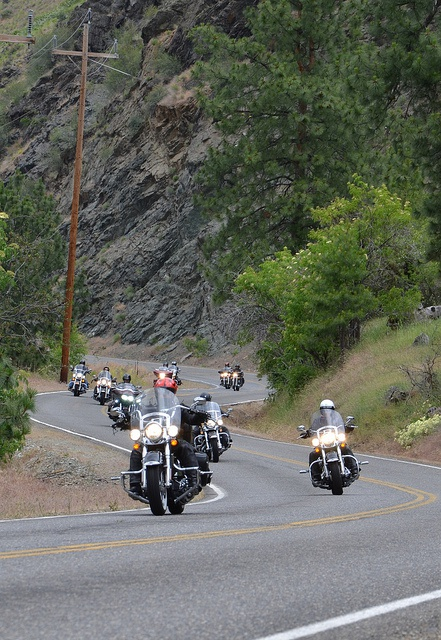non-vehicle: (121, 377, 211, 515), (296, 398, 368, 495), (190, 393, 232, 462), (105, 373, 141, 429), (90, 366, 116, 404), (67, 360, 91, 395), (152, 363, 177, 395), (217, 362, 232, 388), (231, 364, 244, 391), (168, 361, 181, 385)
